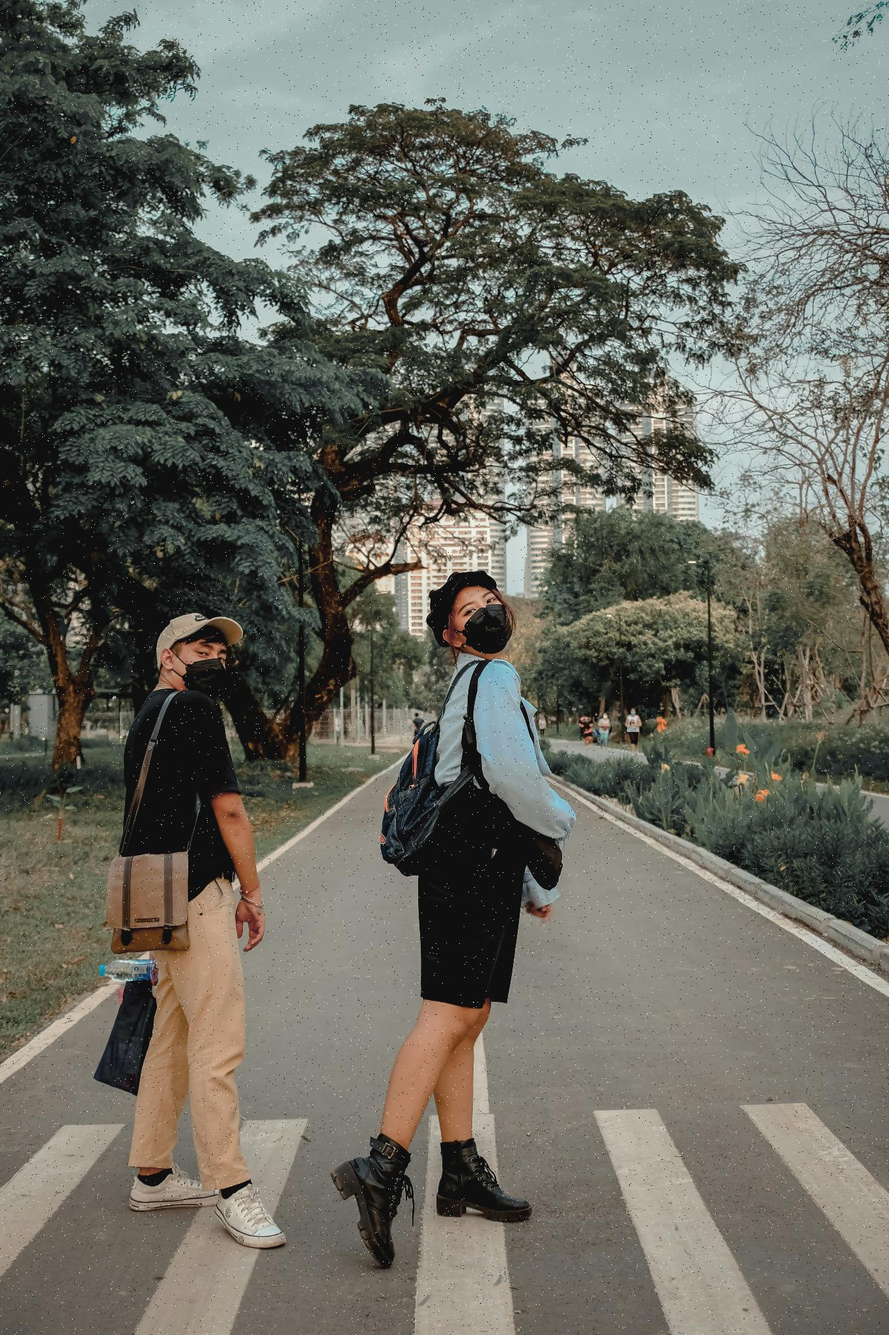pedestrian: (322, 545, 588, 1267), (129, 608, 292, 1255)
